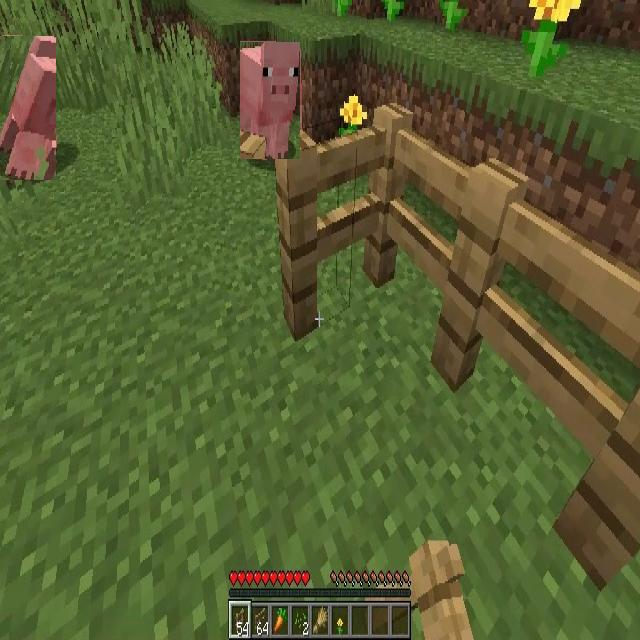flower: (522, 0, 582, 79), (341, 97, 366, 127)
pig: (0, 36, 56, 180), (240, 42, 300, 159)
